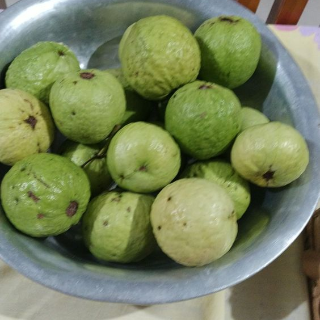oi: (151, 178, 237, 265), (1, 152, 88, 237), (121, 15, 199, 100), (167, 80, 237, 158), (50, 69, 125, 141), (230, 122, 310, 186), (108, 121, 180, 192)
